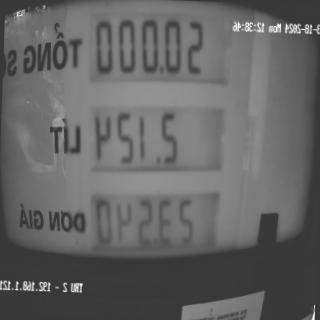screen: (76, 0, 237, 283)
